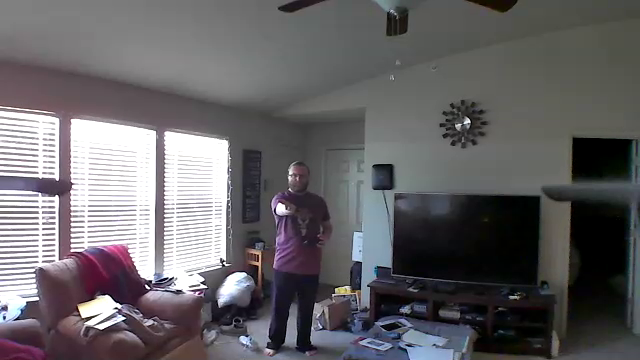land: (277, 199, 298, 213)
